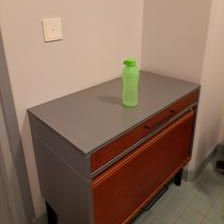bottle: (120, 57, 140, 109)
